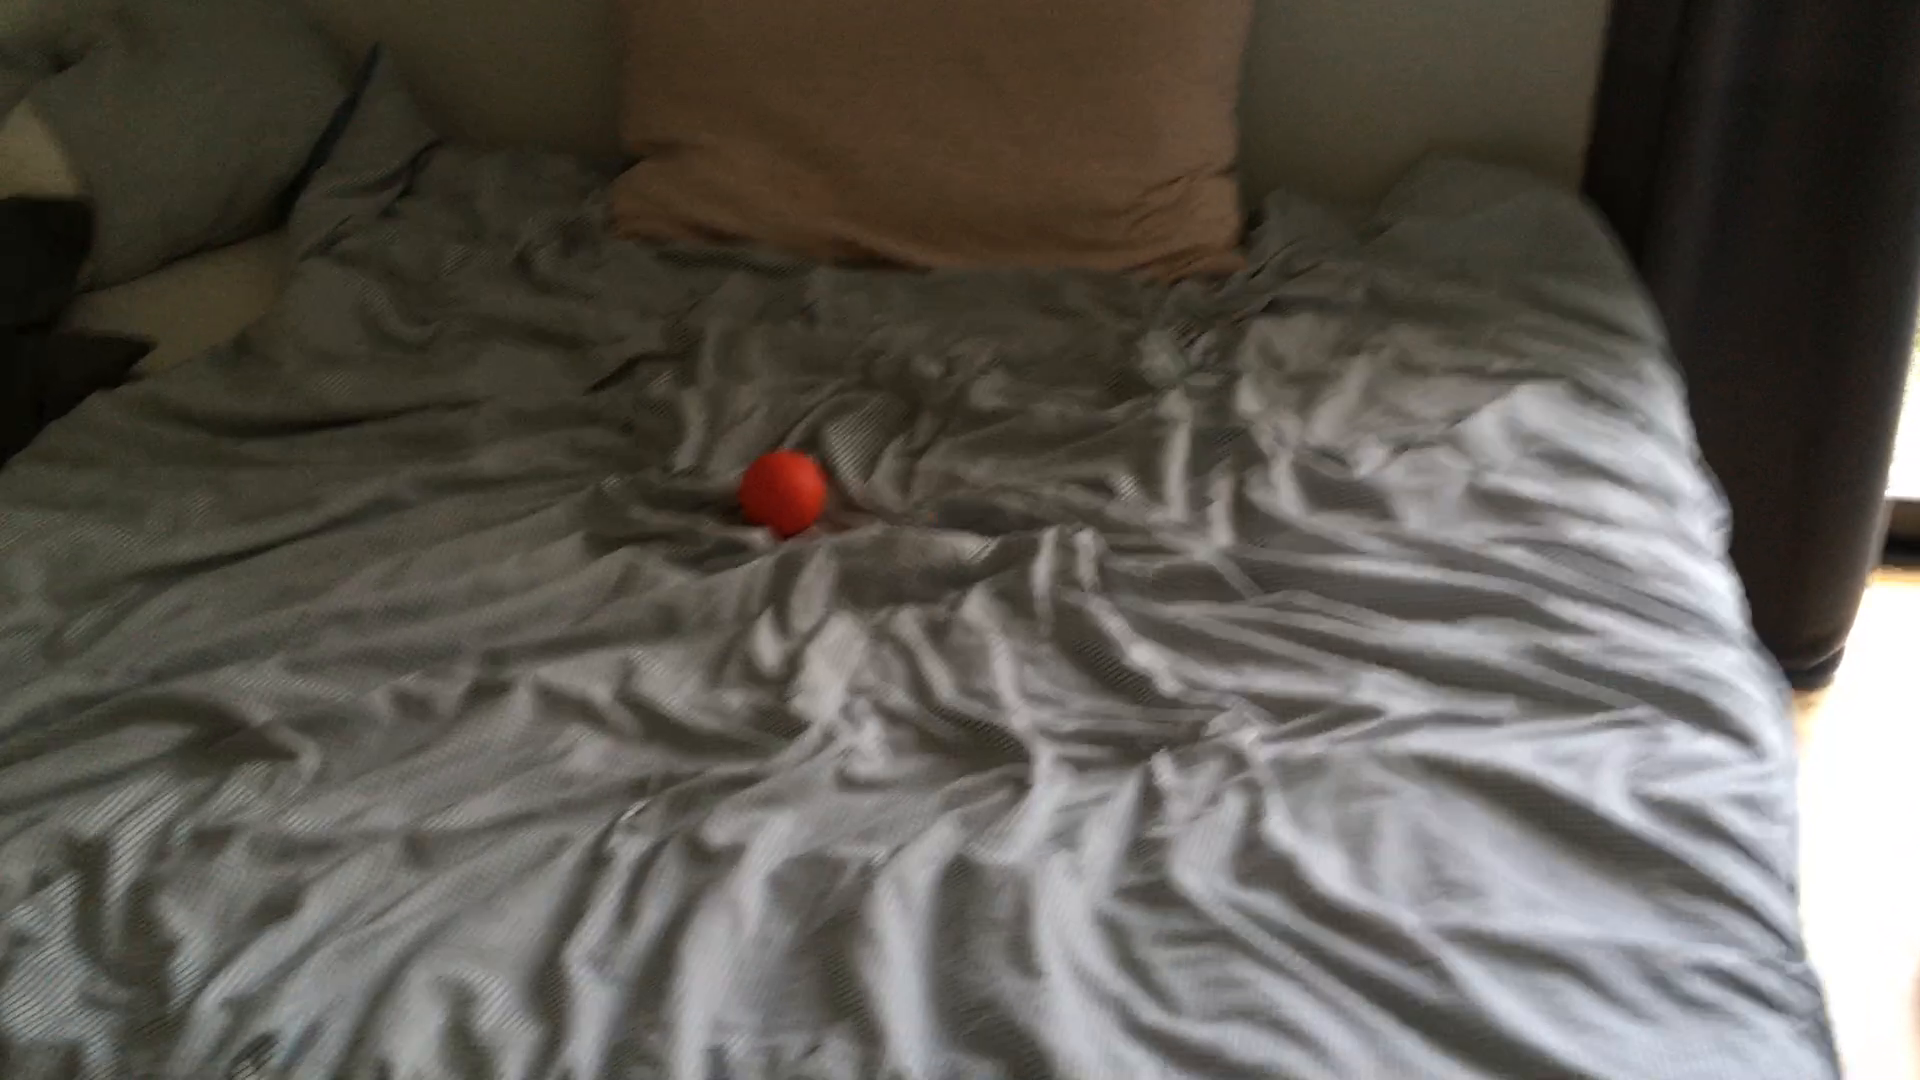Ball: (742, 448, 822, 537)
